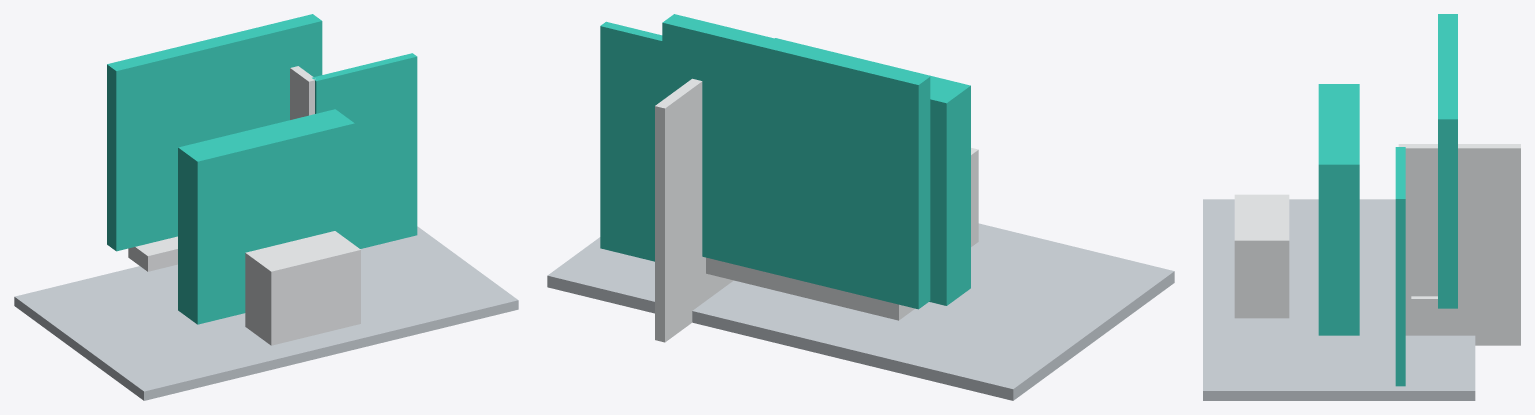
3 renders of one model, left to right at view 1: azimuth 30°, elevation 25°; view 2: azimuth 150°, elevation 25°; view 3: azimuth 270°, elevation 25°, orthographic. The views are drawn at different scales.
Visible parts, largest first — view 1: Exhibition Booth Concept; view 2: Exhibition Booth Concept; view 3: Exhibition Booth Concept.
Boxes of the visible parts, <box> form: Exhibition Booth Concept: <box>14,14,518,400</box>; Exhibition Booth Concept: <box>547,14,1174,400</box>; Exhibition Booth Concept: <box>1203,14,1520,400</box>.
Size of the model in its own units: 5 by 2.9 by 3.51.
